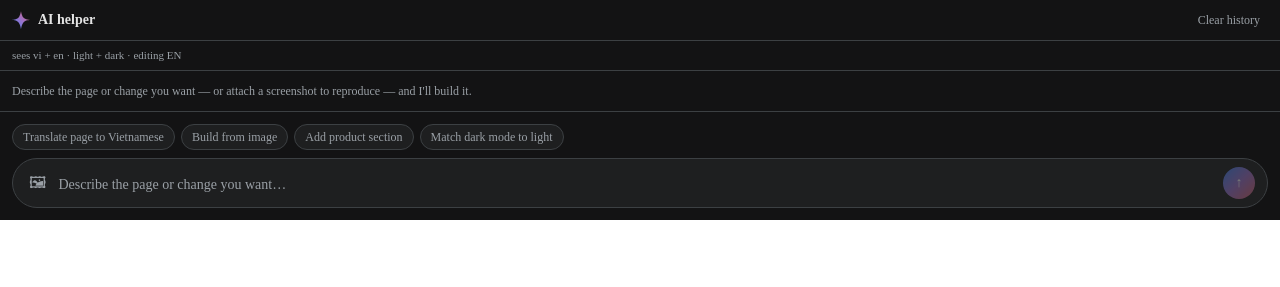
AssistantPanel › should show the user prompt and assistant reply in the conversation log
Type "add an faq" into the text box with placeholder "Describe the page or change you want…" at [637, 186], box x1=58 y1=174 x2=1215 y2=198
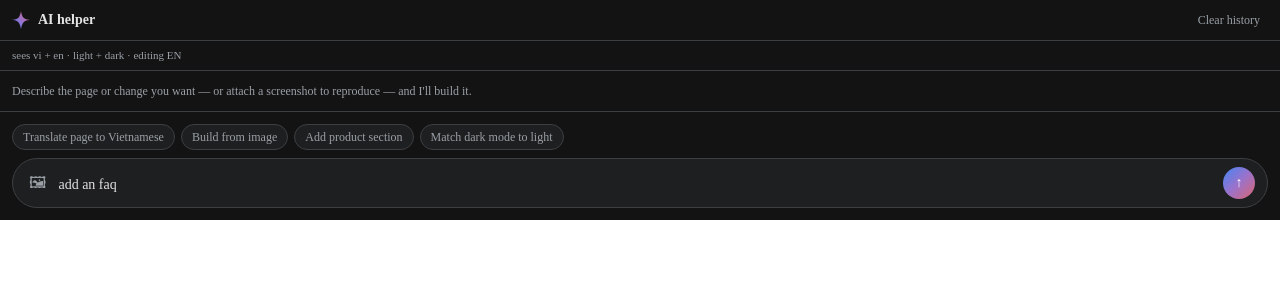
Click the button named "send" at [1239, 182], box x1=1223 y1=166 x2=1255 y2=198
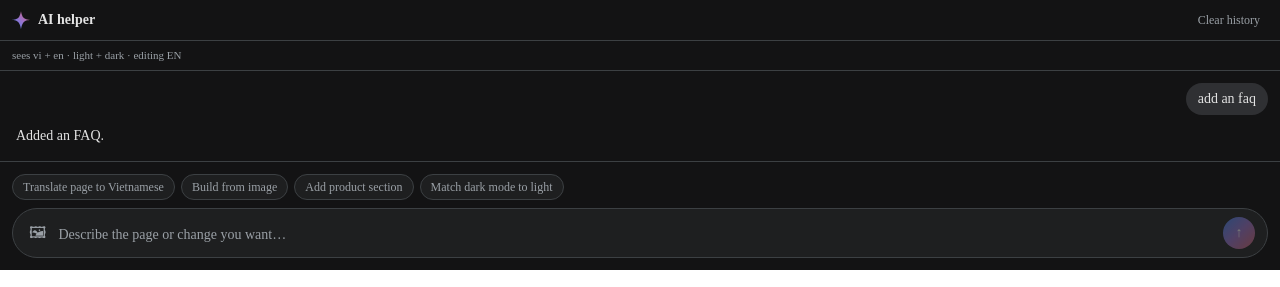
Expected: the text "add an faq" is shown, x1=1198 y1=90 x2=1256 y2=106
Expected: the text "Added an FAQ." is shown, x1=16 y1=124 x2=104 y2=147
